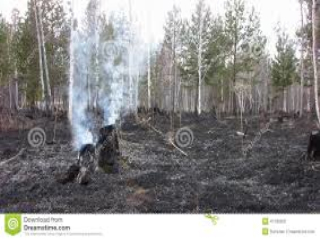smoke: (57, 15, 159, 163)
